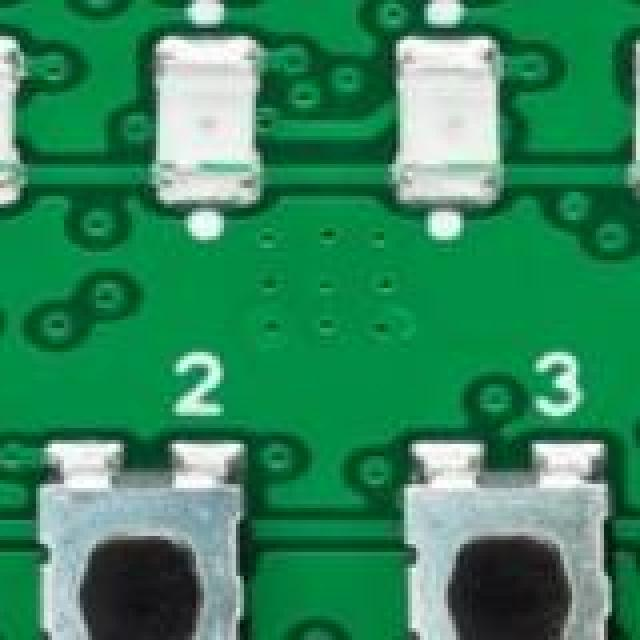LED: (376, 20, 522, 230), (132, 28, 276, 228), (0, 32, 36, 228), (636, 24, 640, 212)
switch: (392, 452, 612, 640), (44, 464, 268, 640)
